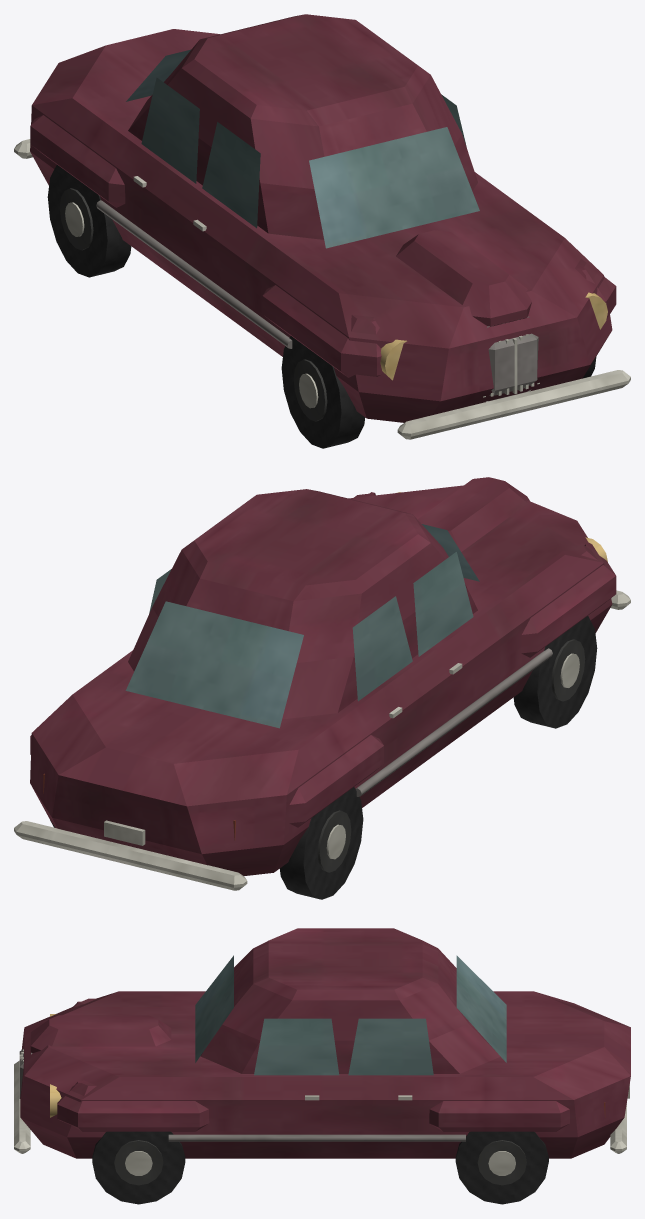
File: ford-v8.glb
The picture shows the model from 3 angles, top to bottom: view 1: azimuth 30°, elevation 25°; view 2: azimuth 150°, elevation 25°; view 3: azimuth 270°, elevation 25°; orthographic projection. The views are drawn at different scales.
Visible parts, largest first — view 1: Ford V8 | Weinrot; view 2: Ford V8 | Weinrot; view 3: Ford V8 | Weinrot.
Part boxes in pixels (x1,y1,x2,y2): Ford V8 | Weinrot: (14,14,630,448); Ford V8 | Weinrot: (14,477,630,899); Ford V8 | Weinrot: (14,928,630,1204).
Size of the model in its own units: 1.91 by 1.68 by 4.77.
Materials: 1 (1 with a texture image).
